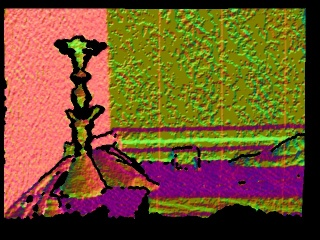station: (169, 145, 202, 172)
